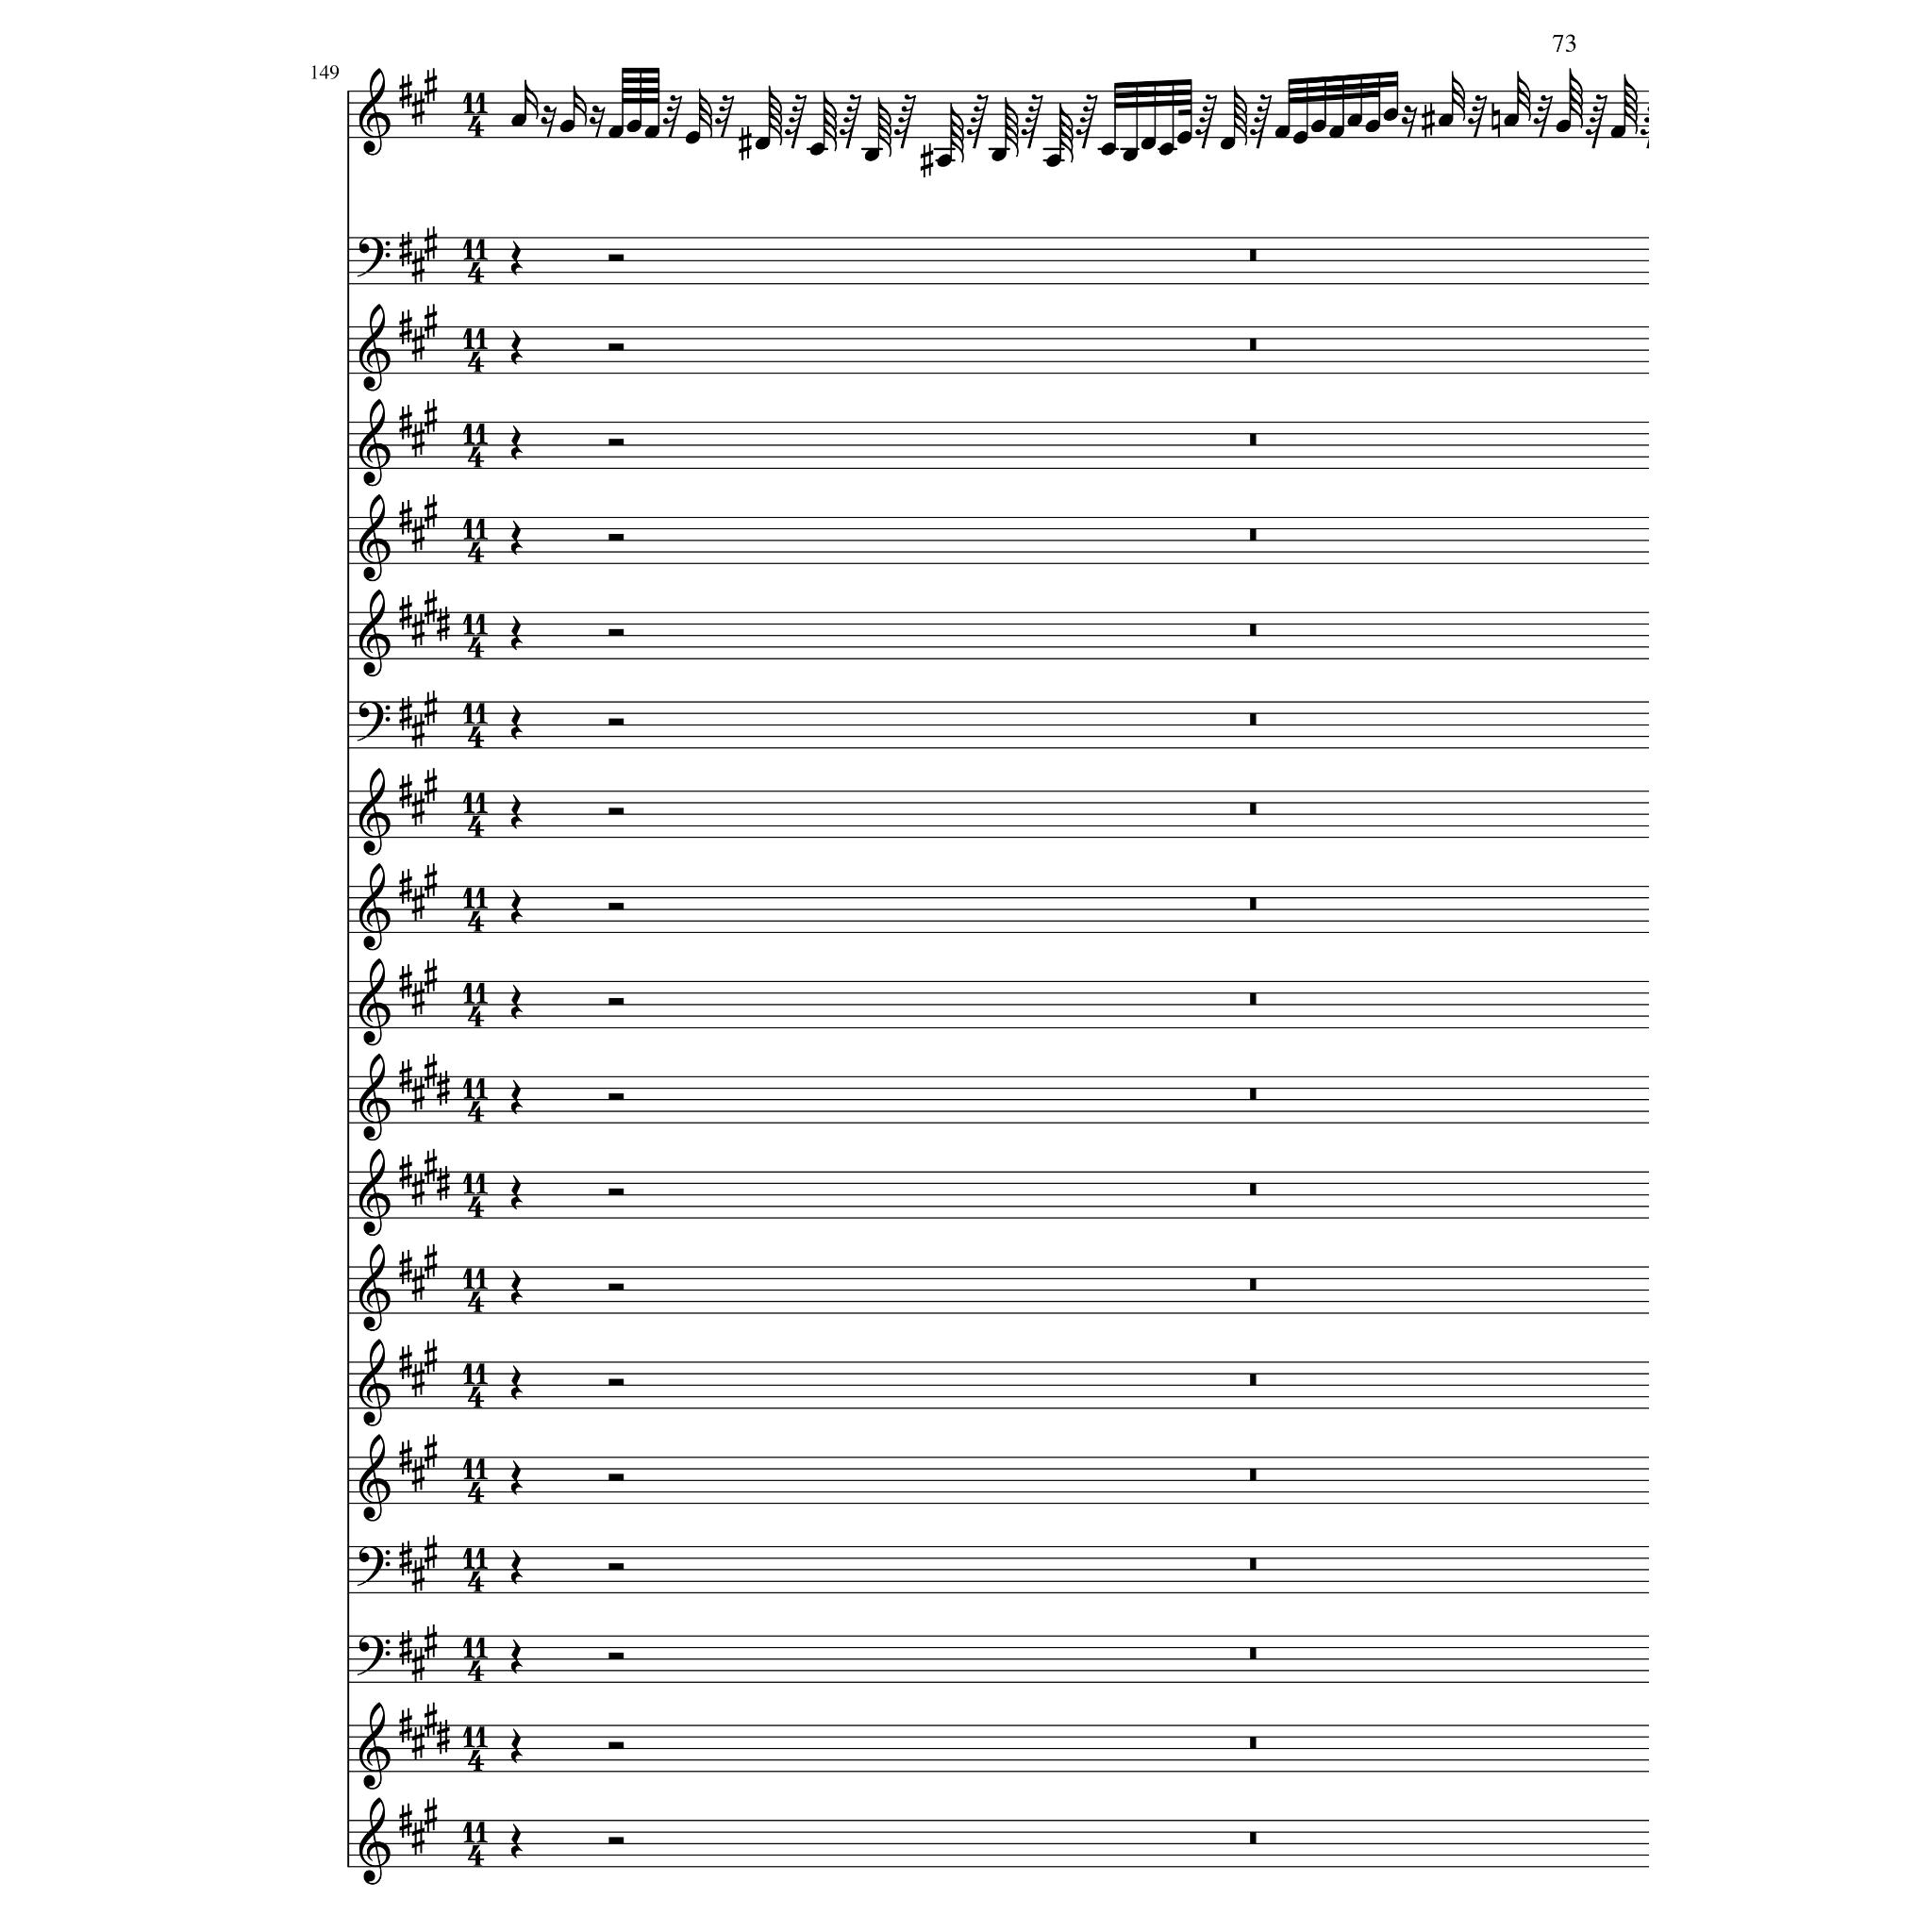fClef: (357, 237, 391, 278), (357, 1635, 391, 1675), (357, 1546, 391, 1587), (357, 701, 391, 741)
flag16thUp: (525, 80, 540, 120), (573, 87, 587, 127)
flag64thUp: (1005, 97, 1019, 159), (878, 97, 892, 159), (1624, 74, 1638, 134), (1569, 69, 1583, 129), (1060, 104, 1074, 165), (823, 92, 837, 152), (950, 104, 964, 165), (1233, 87, 1247, 147), (768, 87, 782, 147)
gClef: (359, 67, 391, 157), (359, 1433, 391, 1523), (359, 304, 391, 393), (359, 1339, 391, 1428), (359, 1244, 391, 1332), (359, 1798, 391, 1886), (359, 1702, 391, 1790), (359, 589, 391, 678), (359, 768, 391, 856), (359, 494, 391, 582), (359, 400, 391, 488), (359, 1148, 391, 1237), (359, 1053, 391, 1141), (359, 959, 391, 1047), (359, 862, 391, 950)
noteheadBlack: (1293, 131, 1309, 145), (1382, 108, 1398, 122), (1046, 154, 1062, 168), (991, 149, 1007, 163), (1122, 149, 1138, 163), (863, 149, 879, 163), (936, 154, 952, 168), (1177, 131, 1192, 145), (1139, 136, 1155, 150), (1219, 136, 1235, 150), (754, 136, 770, 150), (685, 131, 701, 145), (1610, 126, 1626, 138), (1274, 126, 1290, 138), (1504, 115, 1520, 127), (1437, 115, 1453, 127), (1555, 120, 1571, 133), (1329, 126, 1345, 138), (1346, 115, 1362, 127), (1309, 120, 1325, 133), (1364, 120, 1380, 133), (609, 126, 625, 138), (559, 120, 575, 133), (511, 115, 527, 127), (1100, 143, 1116, 156), (809, 143, 824, 156), (1159, 143, 1175, 156), (644, 126, 660, 138), (626, 120, 642, 133)
rest16th: (1401, 104, 1417, 138), (589, 104, 605, 138), (541, 104, 557, 138)
restDoubleWhole: (1249, 1184, 1256, 1196), (1249, 1833, 1256, 1845), (1249, 1736, 1256, 1748), (1249, 1647, 1256, 1660), (1249, 1559, 1256, 1571), (1249, 1468, 1256, 1481), (1249, 1375, 1256, 1387), (1249, 1279, 1256, 1292), (1249, 1088, 1256, 1100), (1249, 993, 1256, 1005), (1249, 897, 1256, 909), (1249, 803, 1256, 816), (1249, 713, 1256, 725), (1249, 625, 1256, 637), (1249, 529, 1256, 541), (1249, 338, 1256, 350), (1249, 249, 1256, 262), (1249, 435, 1256, 446)
restHalf: (609, 1741, 625, 1750), (609, 902, 625, 911), (609, 807, 625, 816), (609, 718, 625, 727), (609, 253, 625, 262), (609, 1093, 625, 1100), (609, 1836, 625, 1844), (609, 1652, 625, 1660), (609, 1564, 625, 1571), (609, 1474, 625, 1481), (609, 1378, 625, 1385), (609, 1283, 625, 1290), (609, 1189, 625, 1196), (609, 998, 625, 1005), (609, 630, 625, 637), (609, 534, 625, 541), (609, 439, 625, 446), (609, 343, 625, 350)
restQuarter: (510, 1460, 522, 1497), (510, 888, 522, 925), (510, 704, 522, 741), (510, 1270, 522, 1306), (510, 1824, 522, 1859), (510, 1729, 522, 1764), (510, 1638, 522, 1674), (510, 1550, 522, 1585), (510, 1366, 522, 1401), (510, 1175, 522, 1210), (510, 1079, 522, 1115), (510, 985, 522, 1021), (510, 794, 522, 830), (510, 616, 522, 651), (510, 520, 522, 556), (510, 331, 522, 366), (510, 241, 522, 276), (510, 426, 522, 460)
